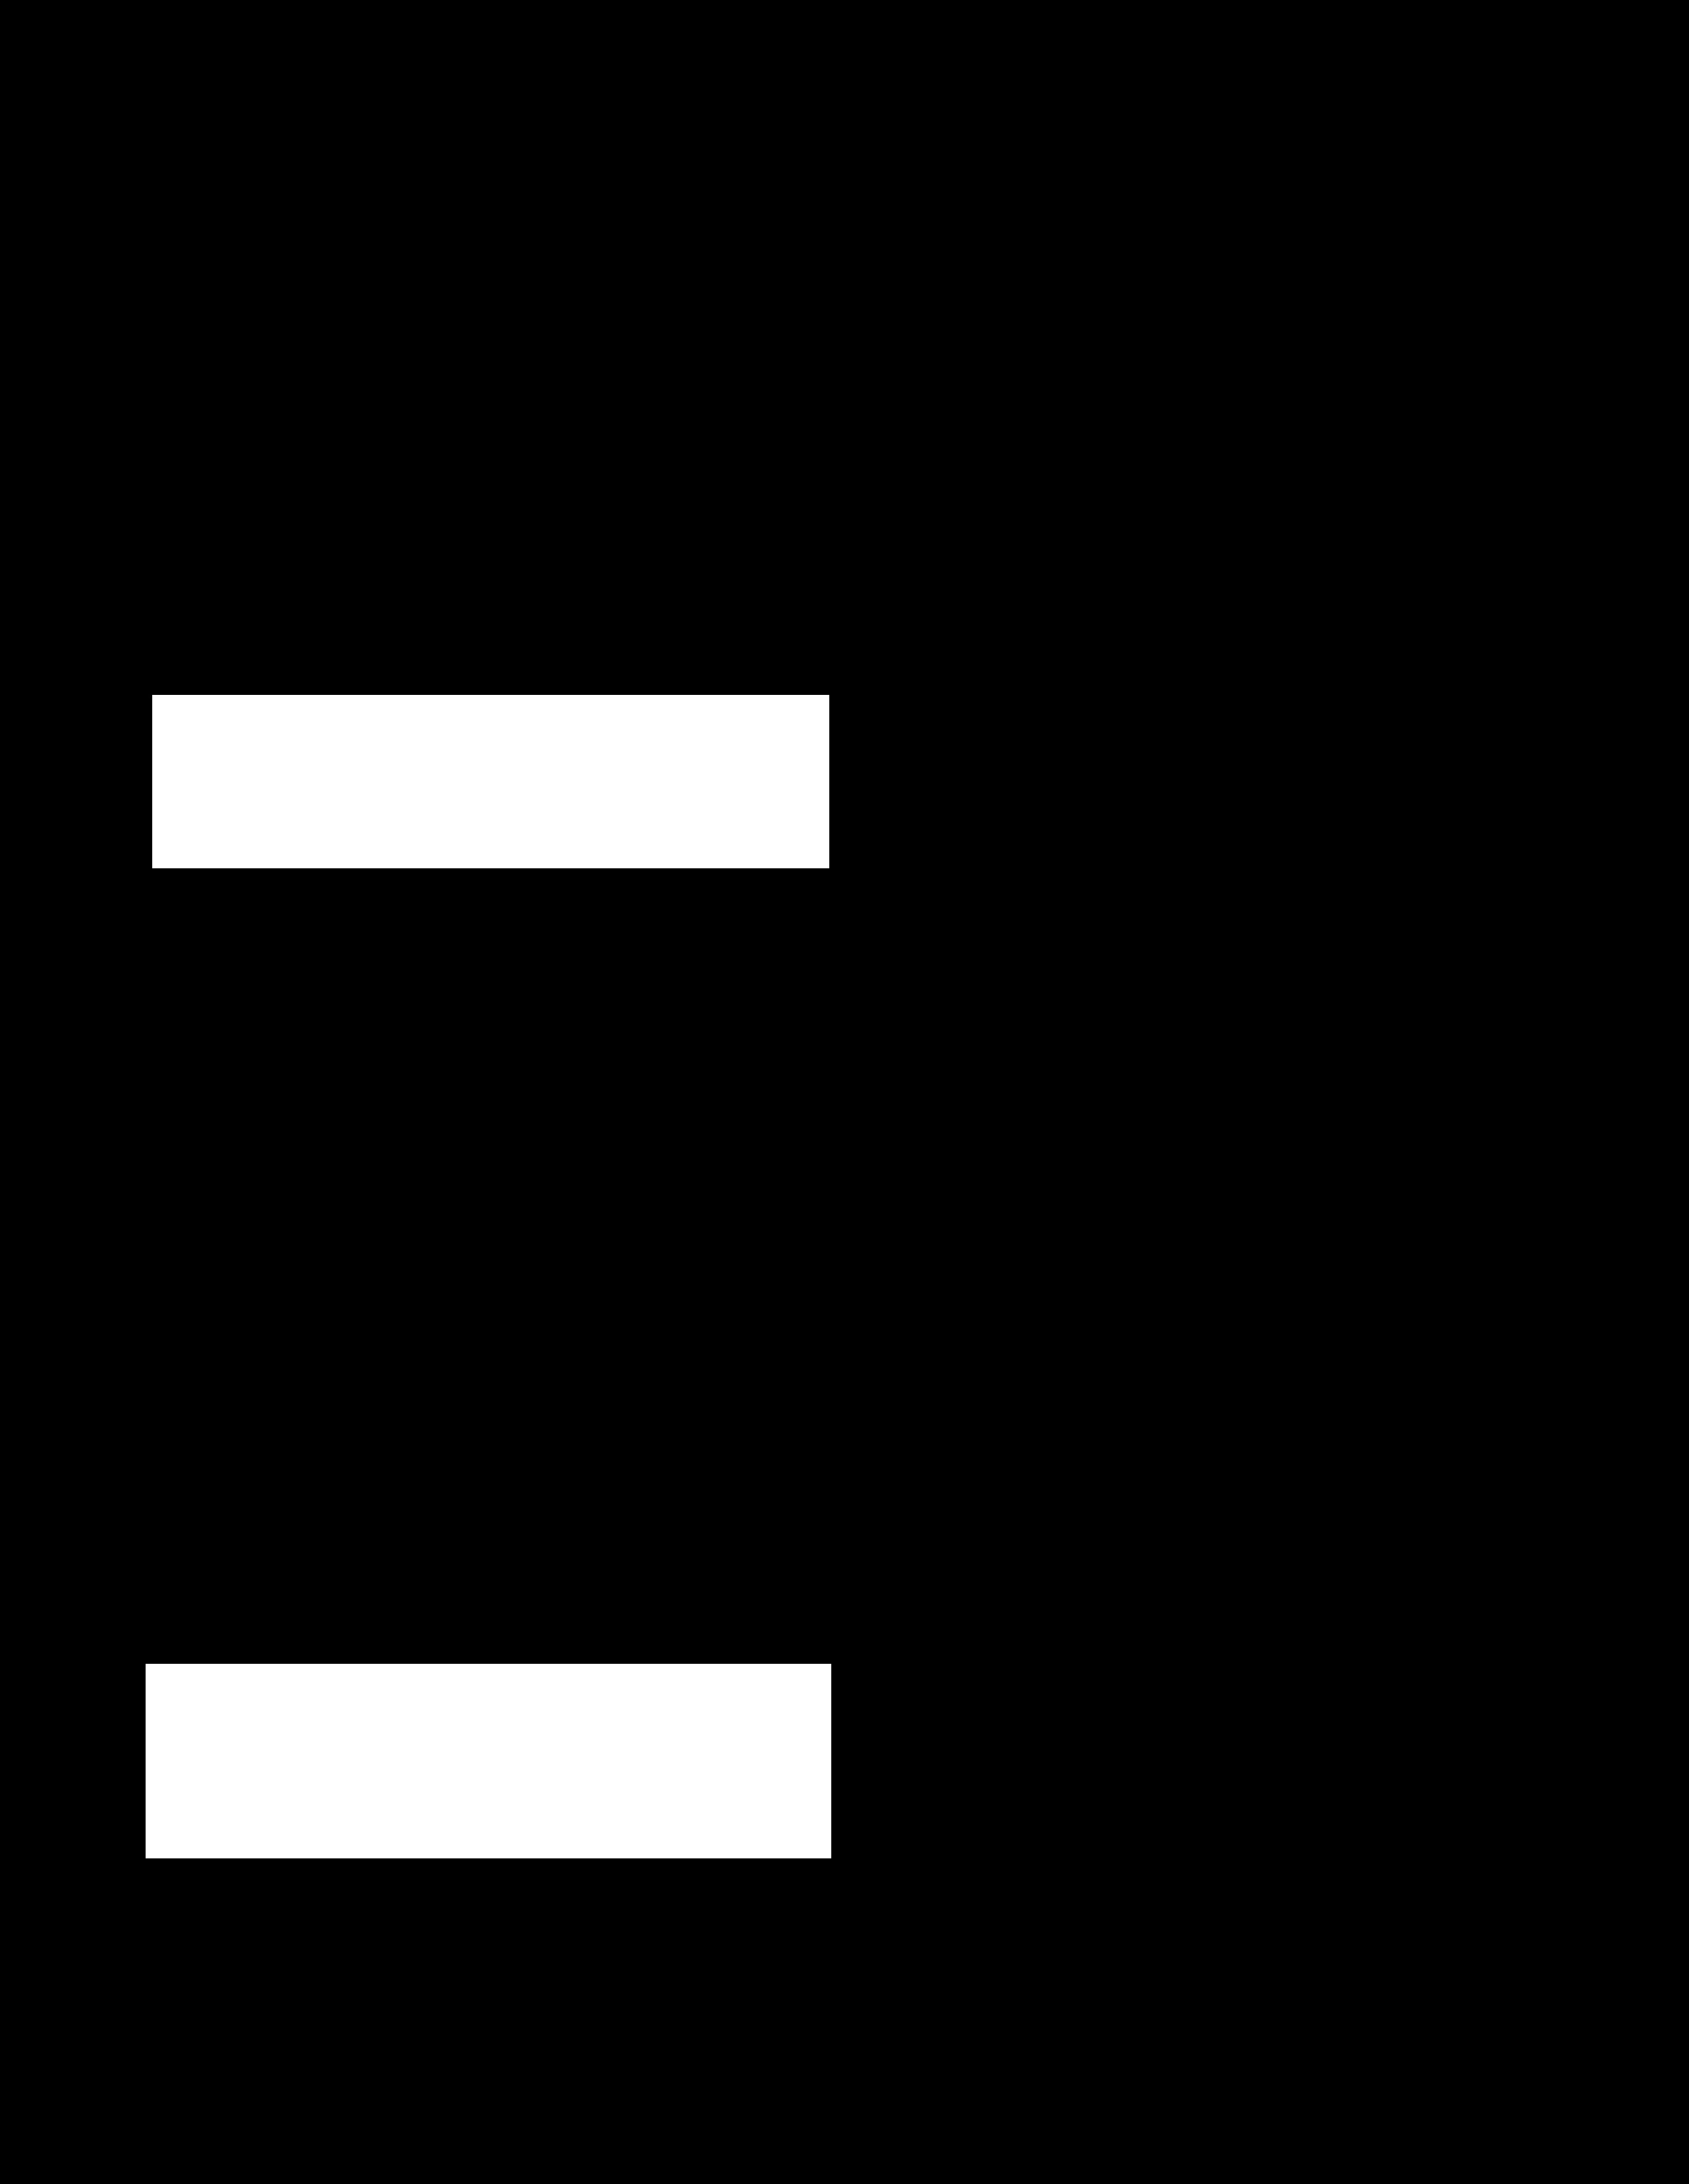table: (145, 1665, 831, 1858), (152, 695, 829, 867)
